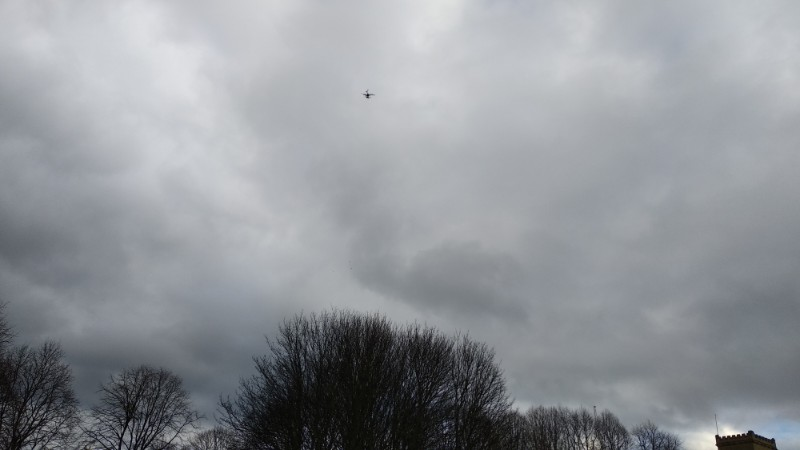drone: (362, 89, 376, 101)
